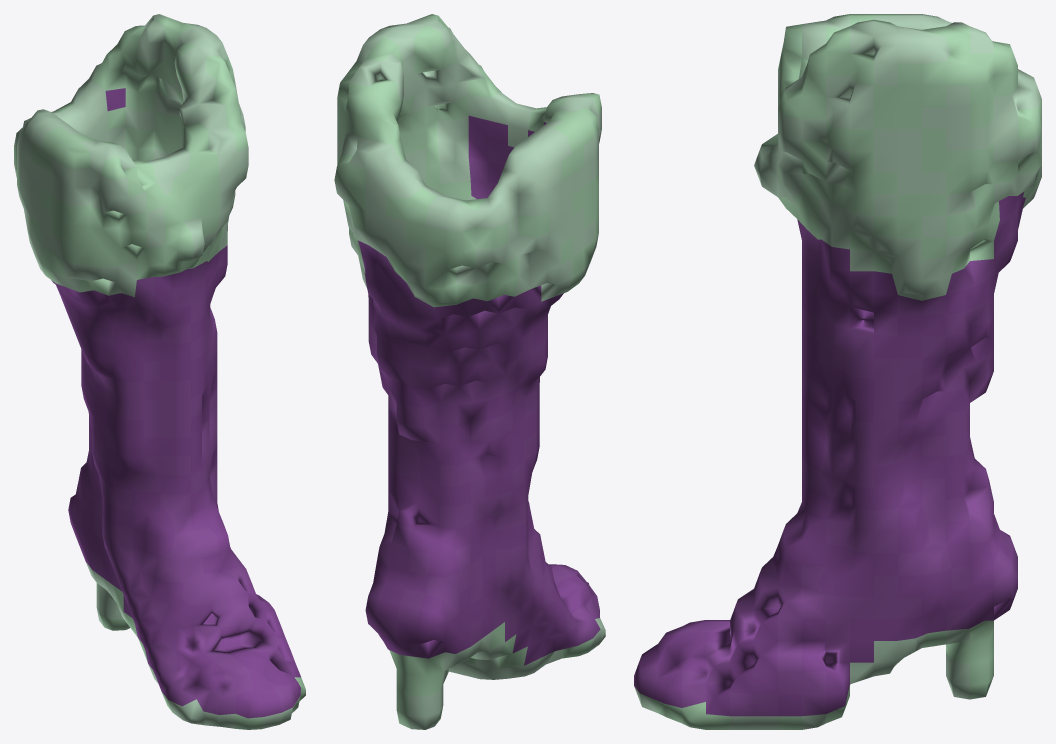
3 renders of one model, left to right at view 1: azimuth 30°, elevation 25°; view 2: azimuth 150°, elevation 25°; view 3: azimuth 270°, elevation 25°, orthographic. The views are drawn at different scales.
Size of the model in its own units: 0.5 by 1.6 by 0.85.
